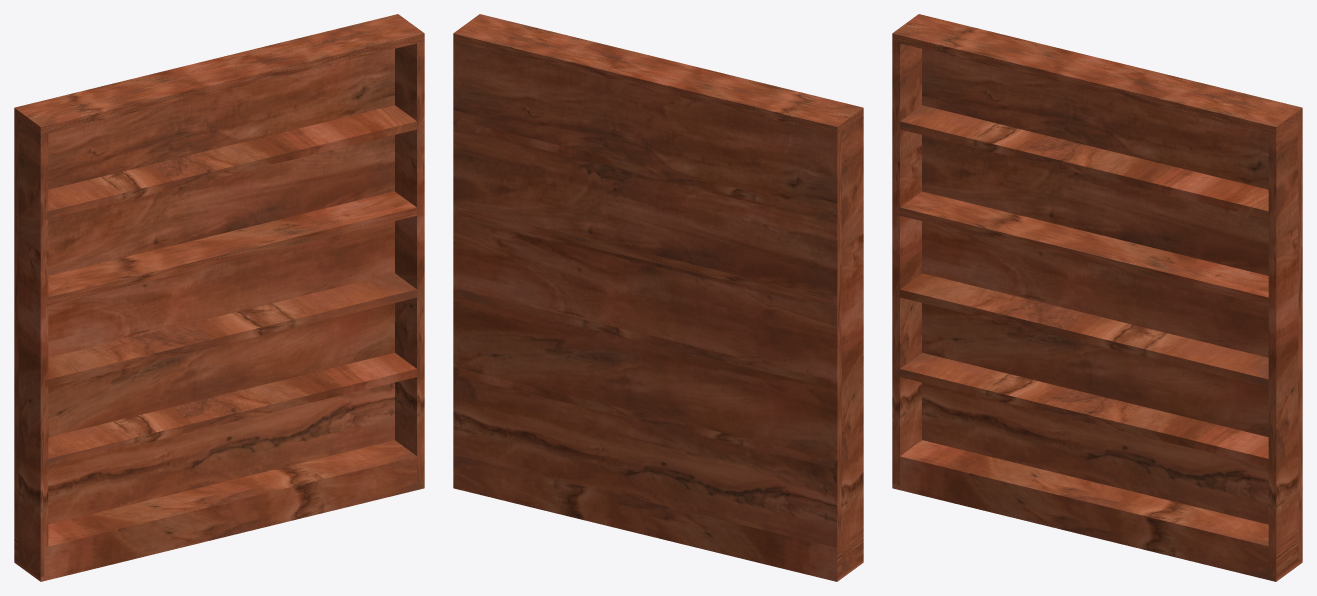
File: polka.FBX
3 views of the same model, side by side, from view 1: azimuth 30°, elevation 25°; view 2: azimuth 150°, elevation 25°; view 3: azimuth 330°, elevation 25° (orthographic).
Parts seen in each view (by area): view 1: Box023, Box018, Box017, Box015, Box021, Box019, Box022, Box020, Box016; view 2: Box023, Box018, Box017, Box015, Box021, Box019, Box022, Box020; view 3: Box023, Box018, Box017, Box016, Box021, Box022, Box020, Box019, Box015.
Boxes of the visible parts, <box> form: Box023: <box>14,49,394,531</box>; Box018: <box>14,440,424,581</box>; Box017: <box>14,14,424,134</box>; Box015: <box>18,119,48,576</box>; Box021: <box>43,352,416,467</box>; Box019: <box>44,105,416,219</box>; Box022: <box>44,191,416,306</box>; Box020: <box>44,273,416,387</box>; Box016: <box>395,41,424,485</box>; Box023: <box>453,41,841,547</box>; Box018: <box>453,454,863,581</box>; Box017: <box>453,14,863,134</box>; Box015: <box>841,116,863,573</box>; Box021: <box>458,368,834,467</box>; Box019: <box>457,120,833,219</box>; Box022: <box>457,207,833,306</box>; Box020: <box>457,288,833,388</box>; Box023: <box>922,49,1302,560</box>; Box018: <box>892,440,1302,581</box>; Box017: <box>892,14,1302,134</box>; Box016: <box>1268,119,1298,576</box>; Box021: <box>895,352,1268,466</box>; Box022: <box>895,191,1268,305</box>; Box020: <box>895,273,1268,387</box>; Box019: <box>896,105,1268,219</box>; Box015: <box>892,41,921,485</box>.
Bounding box in the file's own units: 200 × 226 × 24.
